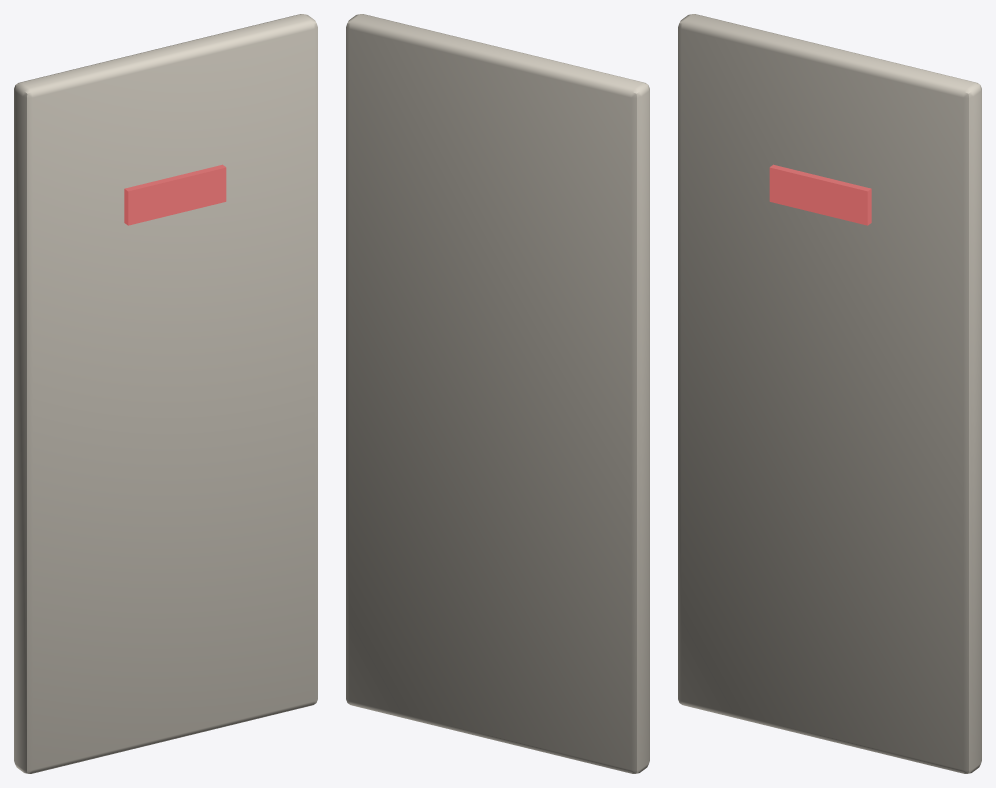
File: plane_door.glb
3 renders of one model, left to right at view 1: azimuth 30°, elevation 25°; view 2: azimuth 150°, elevation 25°; view 3: azimuth 330°, elevation 25°, orthographic.
Visible parts, largest first — view 1: door; view 2: door; view 3: door.
Part boxes in pixels (left/top/right/bottom): door: left=14, top=14, right=317, bottom=773; door: left=346, top=14, right=649, bottom=773; door: left=678, top=14, right=981, bottom=773.
Size of the model in its own units: 0.9 by 2 by 0.1.
